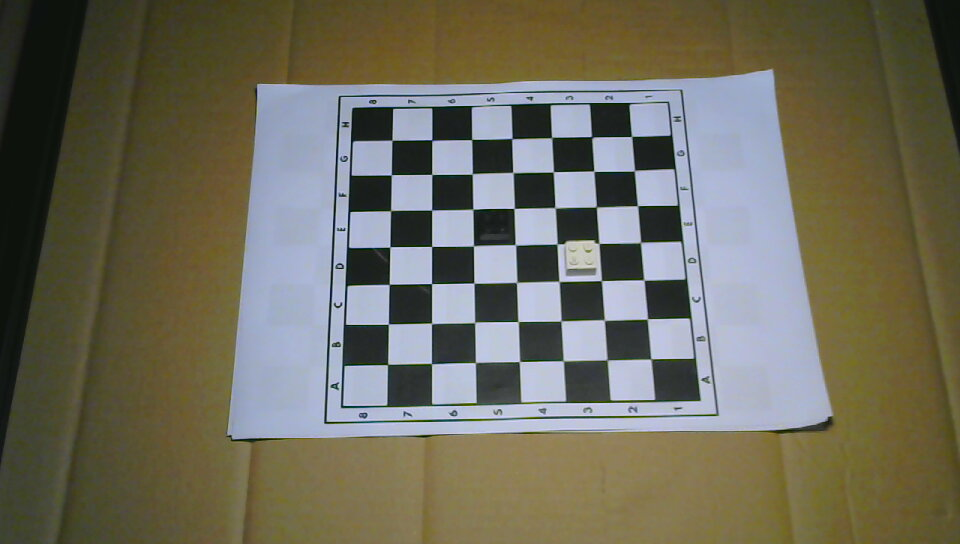bp: (478, 209, 511, 241)
wp: (563, 240, 598, 277)
